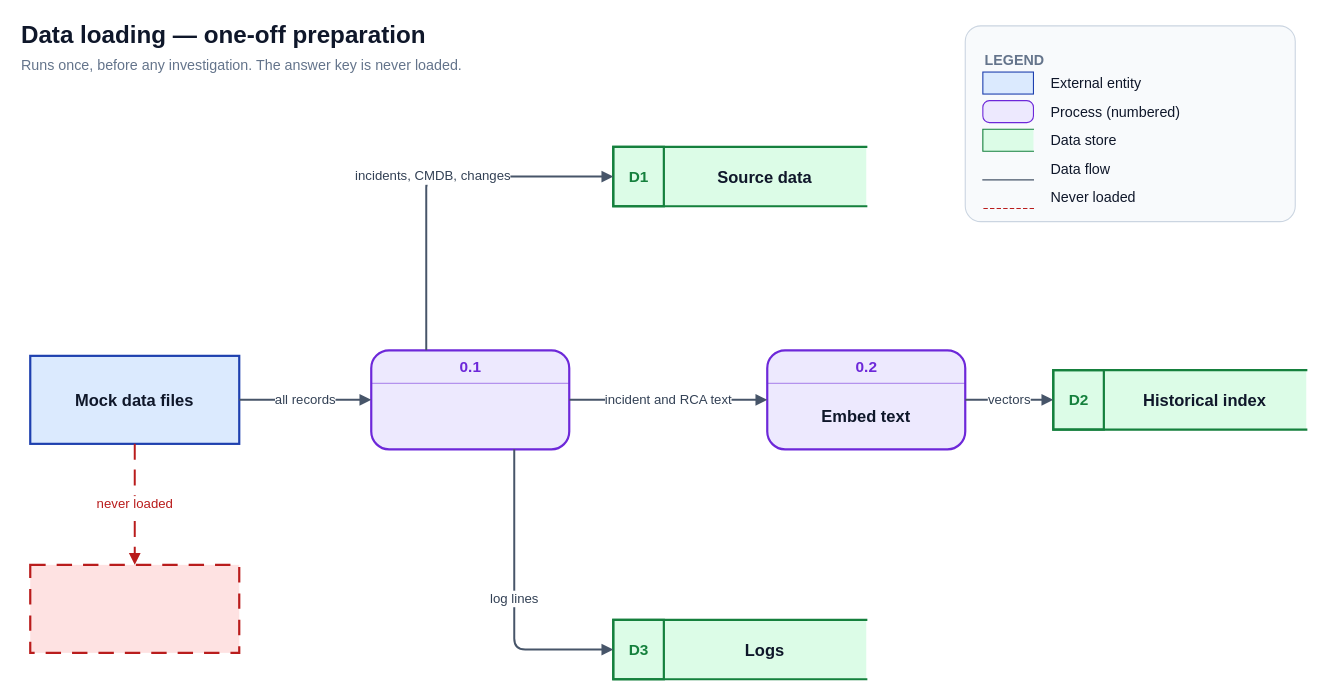
Some shapes in this 1326 by 699 pixel diagram are drawn without their labels. The shapes that lost their labels are listed below. From the top down, each one's box as (x1, y1, x2, y2) in pixels, then its label:
(370, 349, 570, 450): Load records
(29, 563, 240, 653): Answer key
